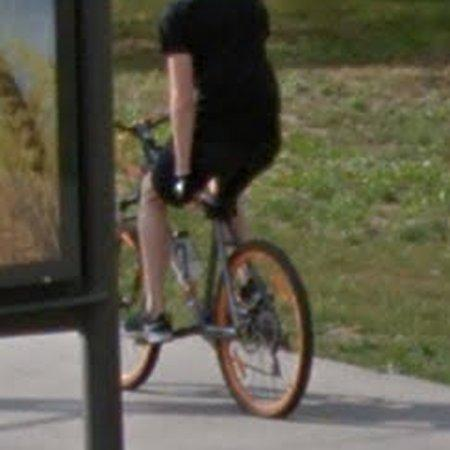bicycles: (166, 191, 314, 418), (117, 186, 163, 391)
